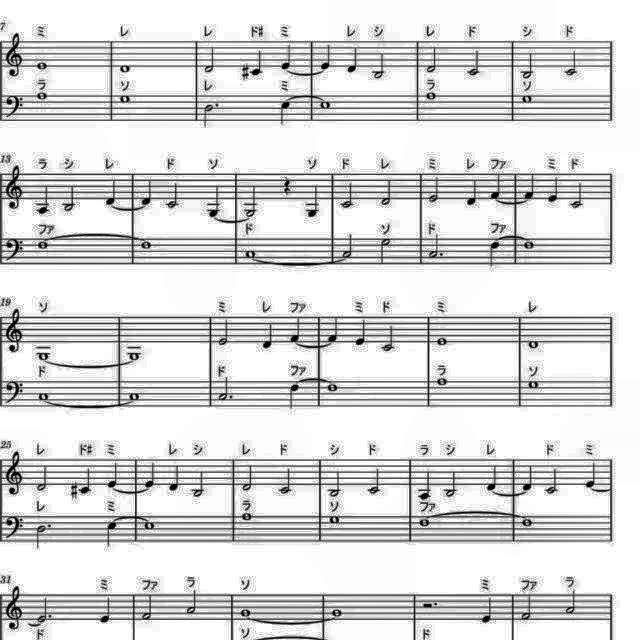Bass-clef: (1, 512, 25, 544), (1, 377, 26, 407), (1, 235, 26, 265), (2, 92, 26, 120)
Diez: (68, 479, 80, 501), (240, 61, 252, 83)
Full-note: (34, 235, 50, 255), (140, 518, 158, 534), (137, 238, 155, 254), (238, 604, 254, 620), (518, 515, 536, 529), (416, 516, 434, 530), (125, 350, 145, 362), (520, 239, 536, 253), (116, 61, 132, 75), (34, 59, 50, 73), (520, 93, 536, 107), (240, 511, 256, 525), (316, 98, 332, 112), (242, 247, 258, 261), (435, 376, 451, 390), (329, 606, 347, 618), (33, 91, 51, 103), (34, 350, 52, 362), (324, 382, 341, 394), (436, 335, 450, 349), (525, 339, 541, 351), (422, 91, 438, 103), (526, 378, 542, 390), (326, 516, 342, 528), (116, 94, 132, 106), (126, 390, 142, 402), (36, 390, 52, 402)
Half-dot: (31, 593, 55, 627), (426, 230, 448, 262), (34, 521, 54, 551), (202, 98, 220, 128), (214, 372, 233, 400)
Half-note: (463, 46, 483, 78), (240, 186, 260, 218), (276, 464, 296, 496), (561, 50, 581, 78), (61, 183, 79, 213), (191, 469, 209, 499), (340, 183, 358, 213), (519, 51, 537, 81), (371, 51, 389, 81), (567, 181, 585, 211), (364, 465, 382, 495), (328, 468, 346, 497), (32, 464, 48, 496), (379, 325, 396, 355), (424, 44, 441, 74), (182, 588, 200, 616), (562, 588, 580, 616), (164, 180, 182, 208), (216, 319, 232, 349), (426, 173, 442, 203), (202, 45, 218, 75), (378, 236, 394, 266), (140, 594, 156, 624), (238, 464, 254, 494), (546, 468, 562, 498), (339, 232, 356, 260), (379, 178, 395, 206), (441, 471, 457, 499), (519, 594, 535, 622)
Half-rest: (420, 597, 440, 611)
Quarter-note: (303, 184, 323, 220), (204, 185, 223, 219), (34, 184, 52, 216), (97, 595, 115, 627), (416, 470, 434, 502), (479, 596, 497, 628), (248, 49, 266, 80), (102, 178, 120, 208), (78, 466, 94, 498), (584, 458, 600, 489), (286, 382, 302, 413), (520, 463, 536, 493), (278, 41, 294, 71), (142, 461, 158, 491), (464, 179, 480, 209), (262, 323, 278, 353), (522, 171, 538, 201), (104, 459, 120, 489), (546, 175, 562, 205), (324, 313, 340, 343), (318, 42, 334, 72), (487, 239, 503, 269), (278, 100, 294, 130), (104, 520, 120, 550), (138, 177, 154, 206), (286, 316, 302, 344), (488, 172, 504, 200), (486, 466, 502, 494), (168, 462, 182, 493), (354, 320, 368, 350), (346, 44, 360, 74)
Quarter-rest: (280, 173, 294, 195)
Treble-clef: (1, 306, 26, 356), (1, 164, 26, 212), (2, 448, 26, 498), (2, 582, 26, 632), (2, 32, 26, 80)
